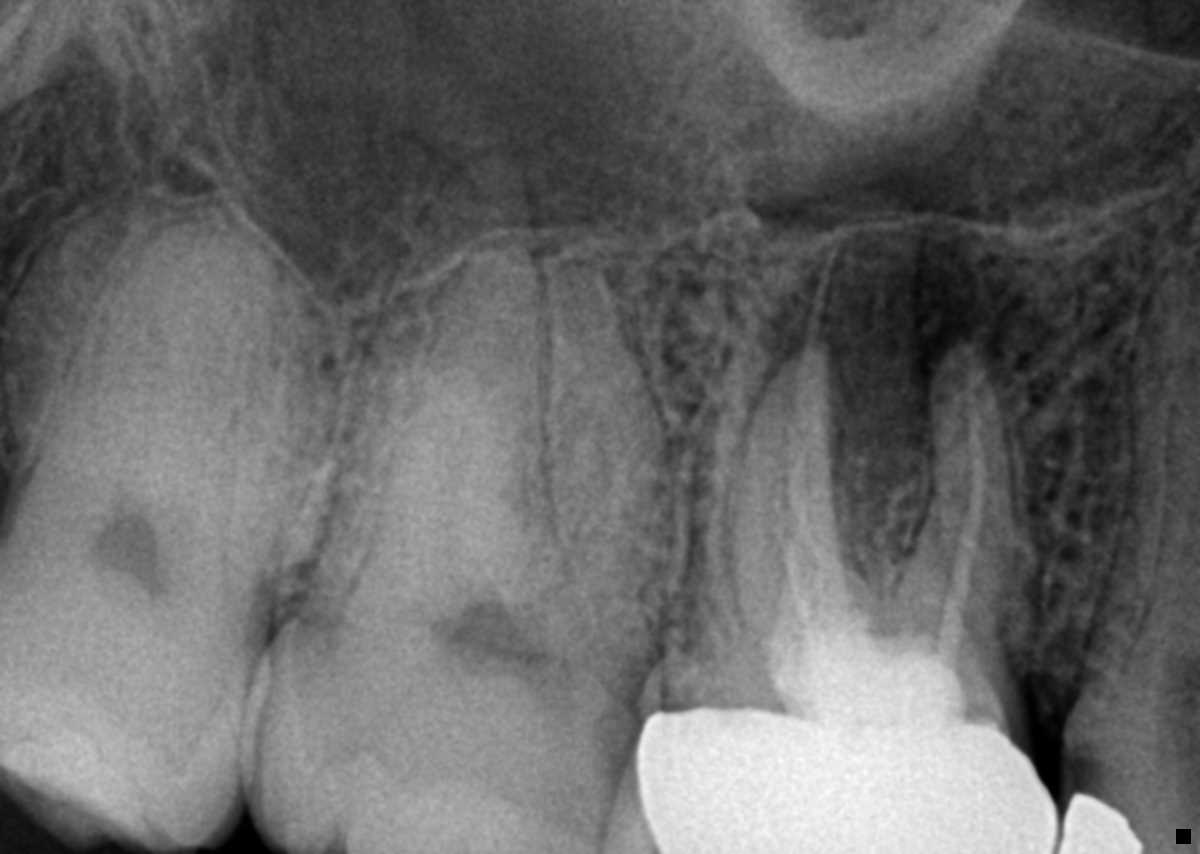Apical Lesion: (765, 227, 1078, 562)
Distal Root: (361, 240, 551, 573), (733, 342, 854, 638)
Main Root: (24, 213, 337, 591), (1077, 260, 1200, 684)
Mesial Root: (521, 268, 677, 632), (885, 342, 1019, 665)
Palatal Root: (300, 143, 616, 620), (682, 190, 917, 686)
Root Canal Filling: (778, 245, 851, 629), (937, 391, 986, 647)
